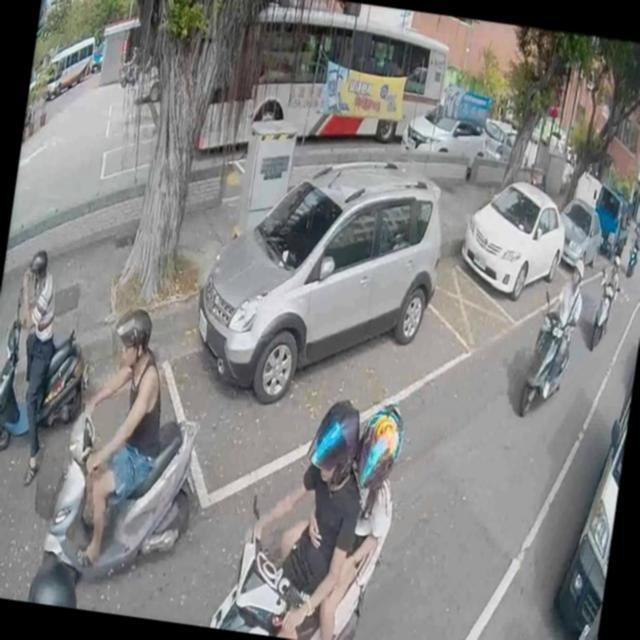person: (225, 388, 375, 640), (267, 392, 407, 640), (58, 301, 178, 583), (0, 246, 71, 483), (527, 253, 588, 398), (27, 552, 86, 608), (592, 256, 622, 334), (128, 46, 138, 73), (631, 229, 640, 250)
